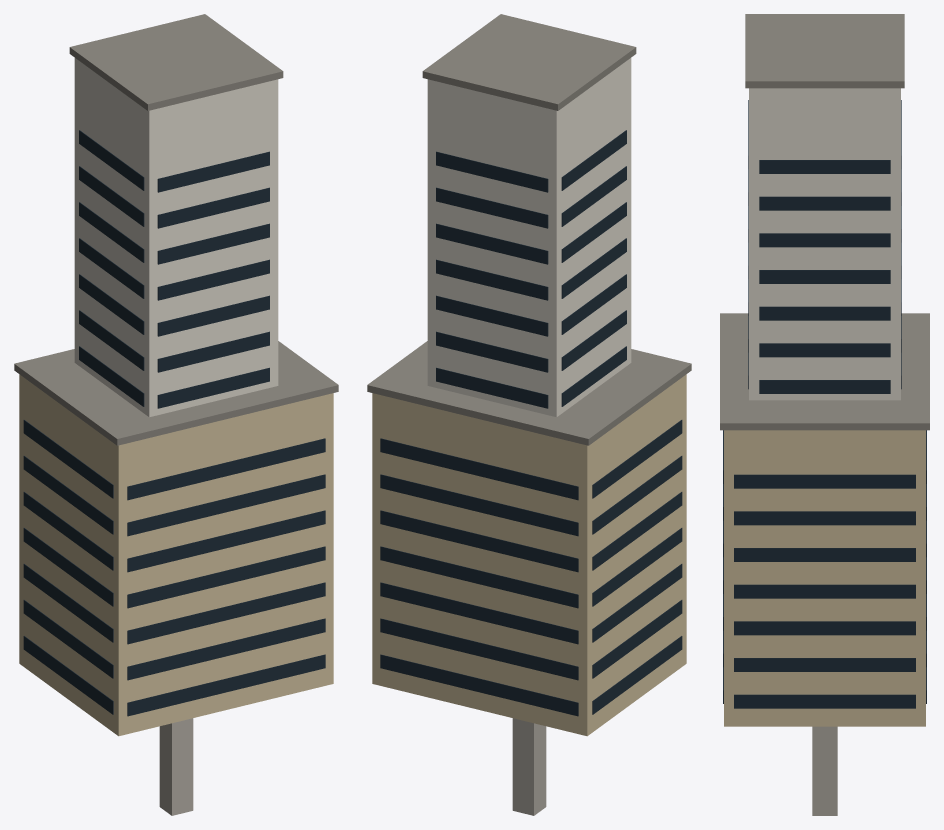
File: scenery.glb
3 renders of one model, left to right at view 1: azimuth 30°, elevation 25°; view 2: azimuth 150°, elevation 25°; view 3: azimuth 270°, elevation 25°, orthographic.
Visible parts, largest first — view 1: Building5, Building3, Pier; view 2: Building5, Building3, Pier; view 3: Building5, Building3, Pier.
Boxes of the visible parts, x1=… form: Building5: x1=14, y1=341, x2=338, y2=736; Building3: x1=69, y1=14, x2=283, y2=417; Pier: x1=159, y1=718, x2=193, y2=815; Building5: x1=367, y1=341, x2=691, y2=736; Building3: x1=422, y1=14, x2=636, y2=417; Pier: x1=512, y1=718, x2=546, y2=815; Building5: x1=720, y1=313, x2=929, y2=726; Building3: x1=745, y1=14, x2=904, y2=400; Pier: x1=812, y1=726, x2=837, y2=815.
Bounding box in the file's own units: 20.6 × 66.6 × 16.6.
